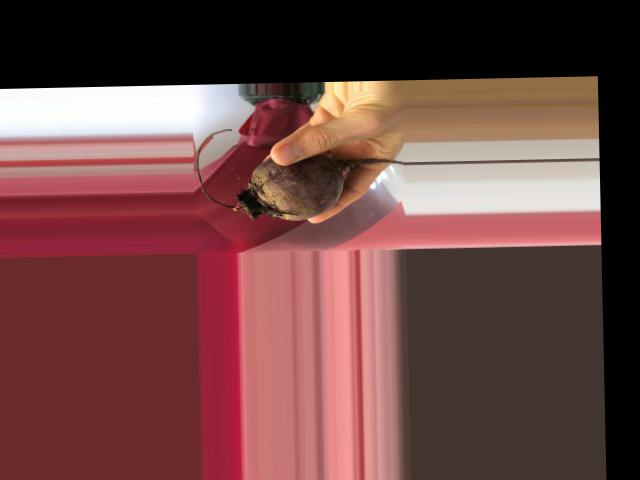beet: (194, 125, 405, 222)
